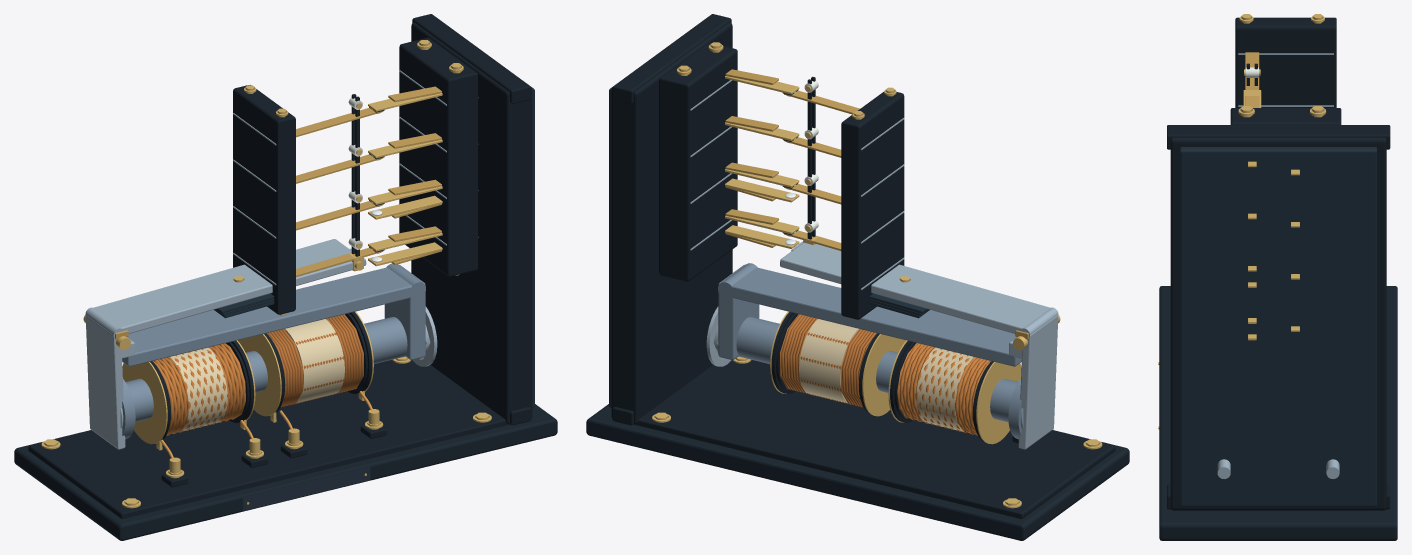
File: JWXC-370-480-picked.glb
3 renders of one model, left to right at view 1: azimuth 30°, elevation 25°; view 2: azimuth 150°, elevation 25°; view 3: azimuth 270°, elevation 25°, orthographic. The views are drawn at different scales.
Parts seen in each view (by area): view 1: base (×6), contactBlock (×2), coil (×6), armature (×2), yoke (×2), core, common (×4), back (×2); view 2: base (×5), contactBlock (×2), coil (×6), armature (×2), yoke (×2), core, back (×2); view 3: base (×4), contactBlock (×2), common.
Boxes of the visible parts, box(x1,y1,x2,y2) form: base (×6): box(14, 14, 557, 540); contactBlock (×2): box(233, 38, 477, 314); coil (×6): box(122, 314, 363, 444); armature (×2): box(85, 239, 352, 449); yoke (×2): box(122, 264, 425, 366); core: box(125, 317, 407, 422); common (×4): box(296, 107, 383, 276); back (×2): box(368, 195, 442, 266); base (×5): box(586, 14, 1129, 540); contactBlock (×2): box(659, 42, 904, 319); coil (×6): box(780, 314, 1021, 444); armature (×2): box(780, 242, 1058, 449); yoke (×2): box(718, 264, 1021, 366); core: box(736, 317, 1018, 422); back (×2): box(725, 178, 799, 248); base (×4): box(1159, 125, 1397, 540); contactBlock (×2): box(1230, 17, 1341, 124); common: box(1245, 52, 1259, 89).
Bounding box in the file's own units: 6.05 × 4.73 × 2.55.
